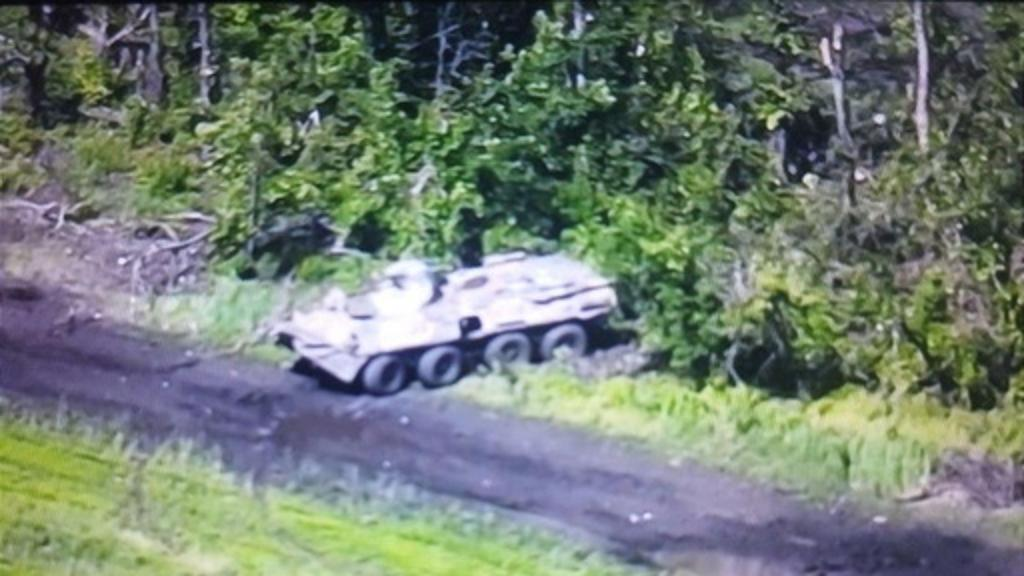APC-IFV: (262, 234, 622, 404)
